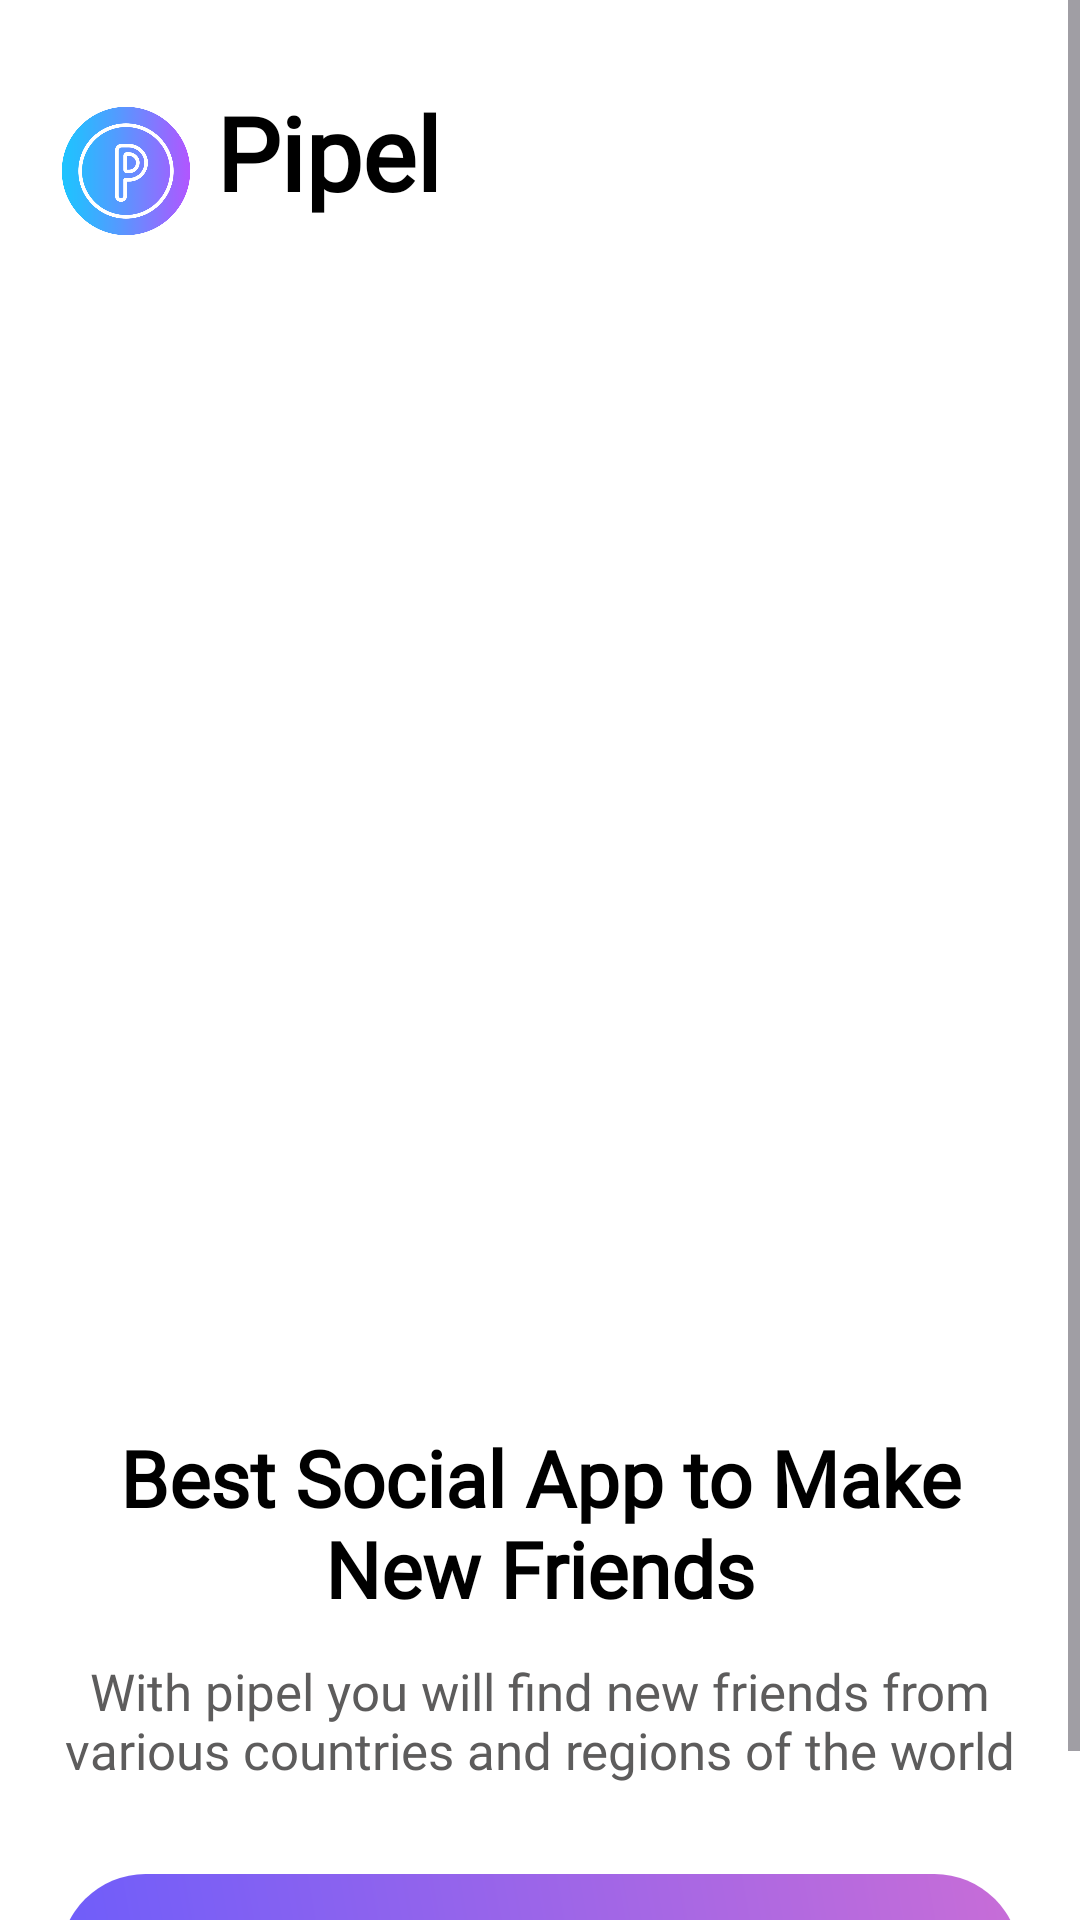

Where icons sit on this 1080 x 1920 app screen, as region(x1, y1, x2, y2):
parking: region(62, 107, 190, 235)
